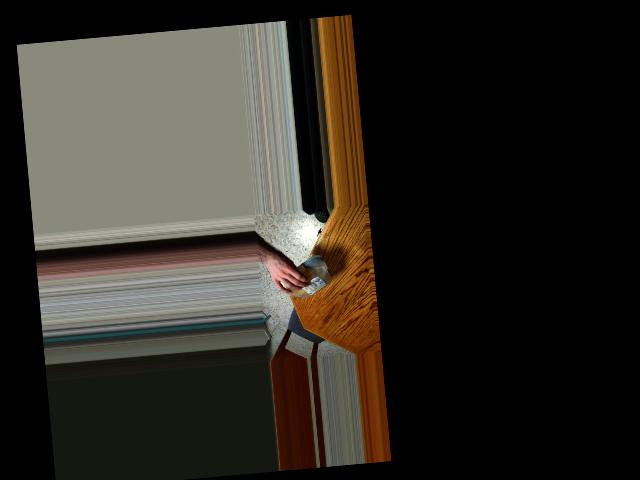cheese: (286, 266, 328, 298)
